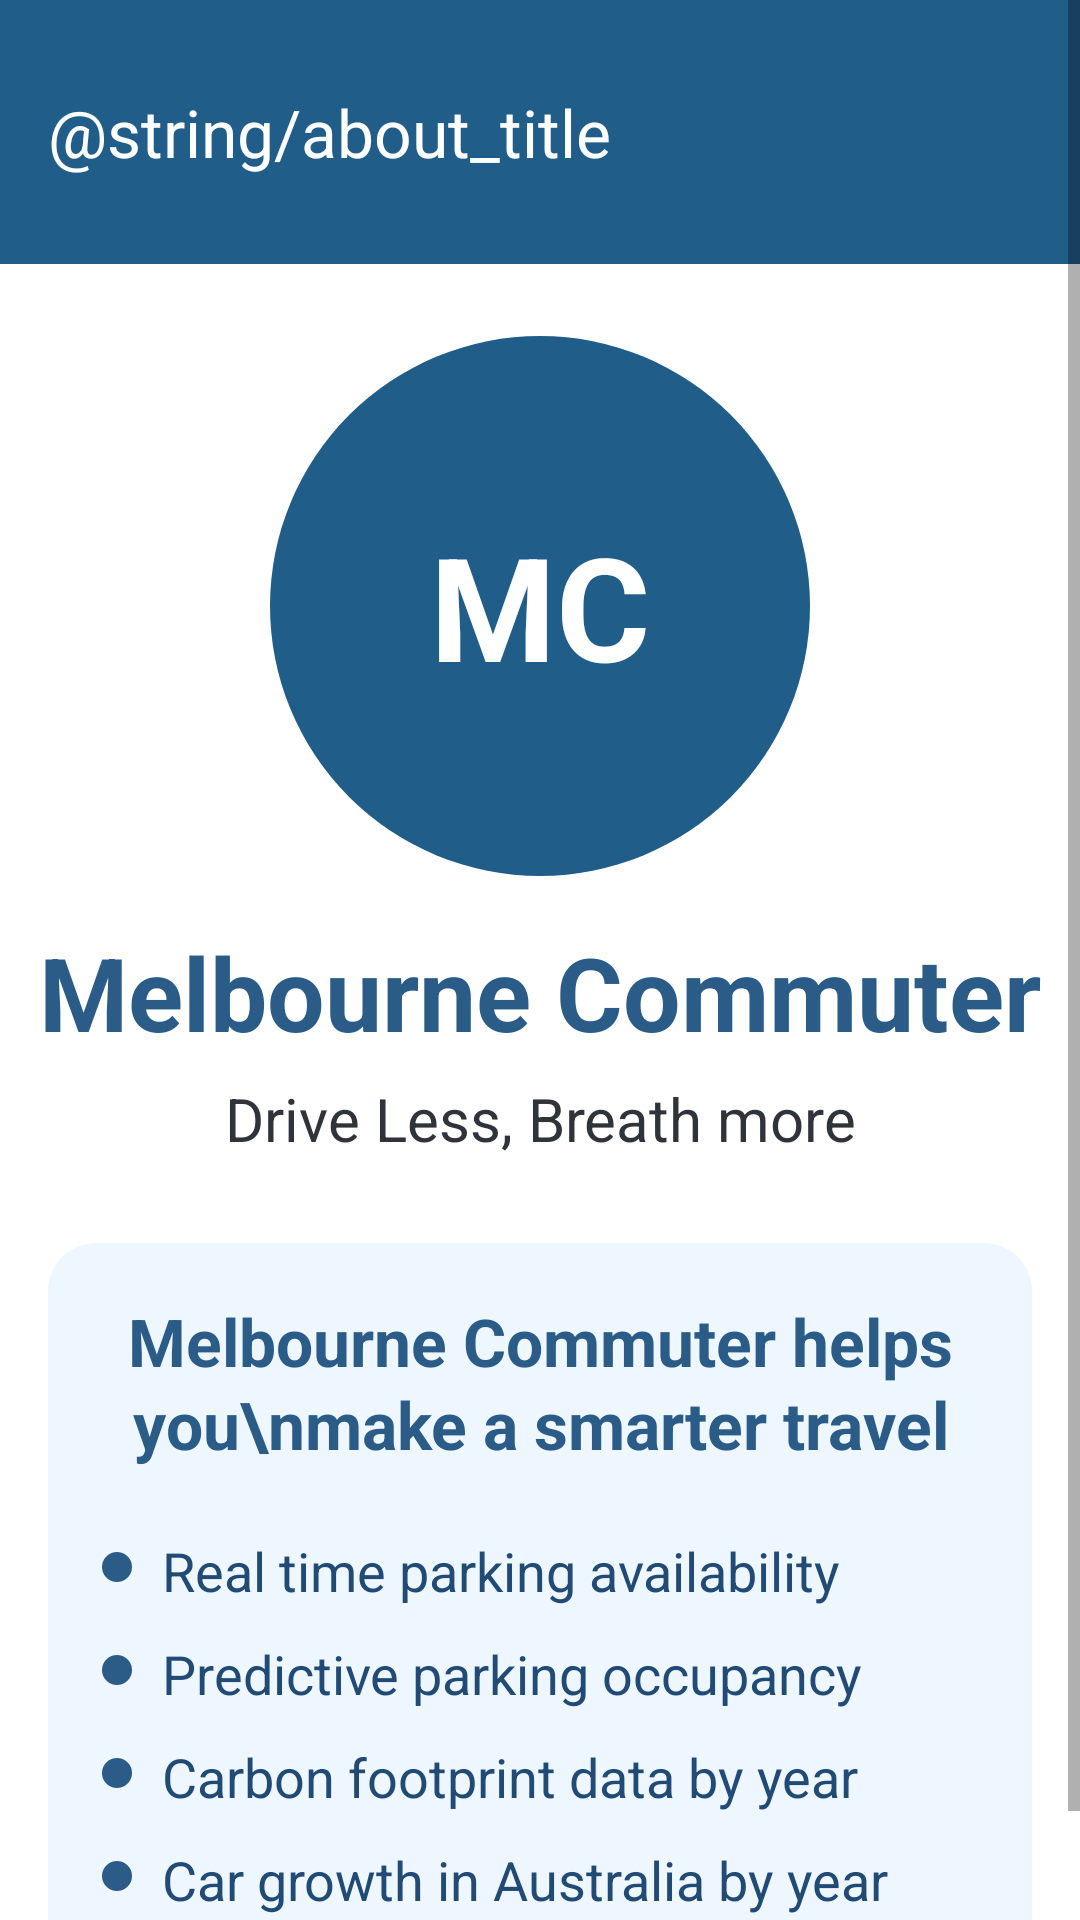

Point at icon controls on the screen. Image size 1080 x 1920, points as [x,y].
bullet dot: [117,1567], [117,1670], [117,1773], [117,1876]
